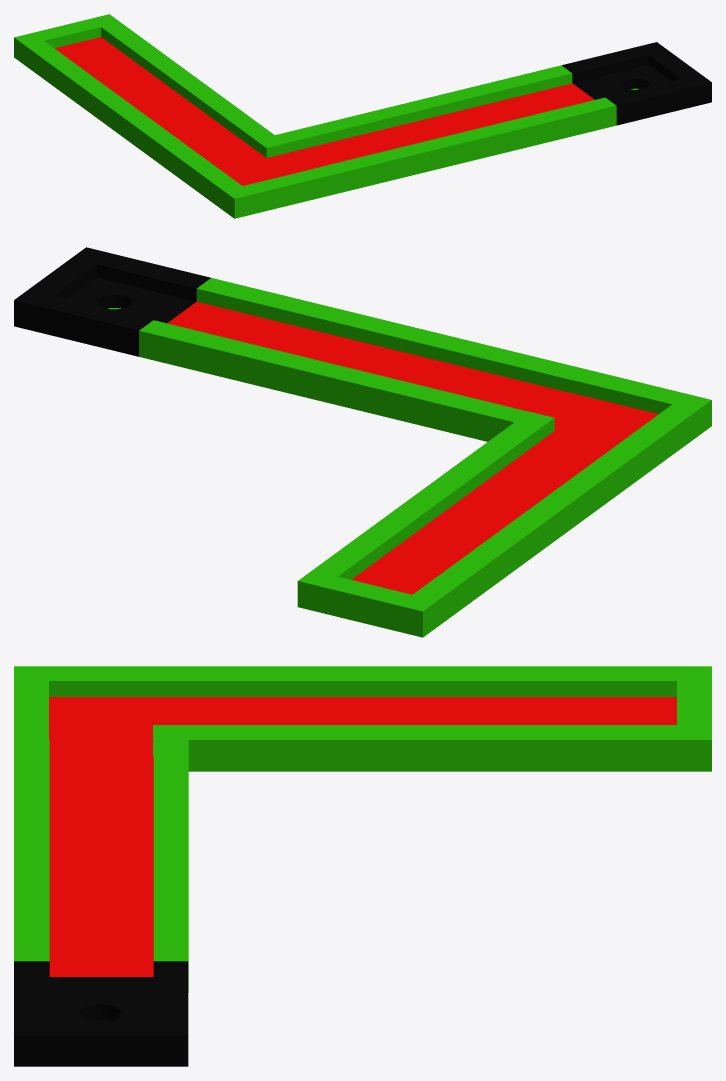
Rendered from level1_v3.FBX.
3 renders of one model, top to bottom at view 1: azimuth 30°, elevation 25°; view 2: azimuth 150°, elevation 25°; view 3: azimuth 270°, elevation 25°, orthographic. The views are drawn at different scales.
Visible parts, largest first — view 1: level1_v3; view 2: level1_v3; view 3: level1_v3.
Part boxes in pixels (x1=…): level1_v3: x1=14, y1=14, x2=711, y2=218; level1_v3: x1=14, y1=247, x2=711, y2=637; level1_v3: x1=14, y1=666, x2=711, y2=1066.
Size of the model in its own units: 500 by 30 by 400.
